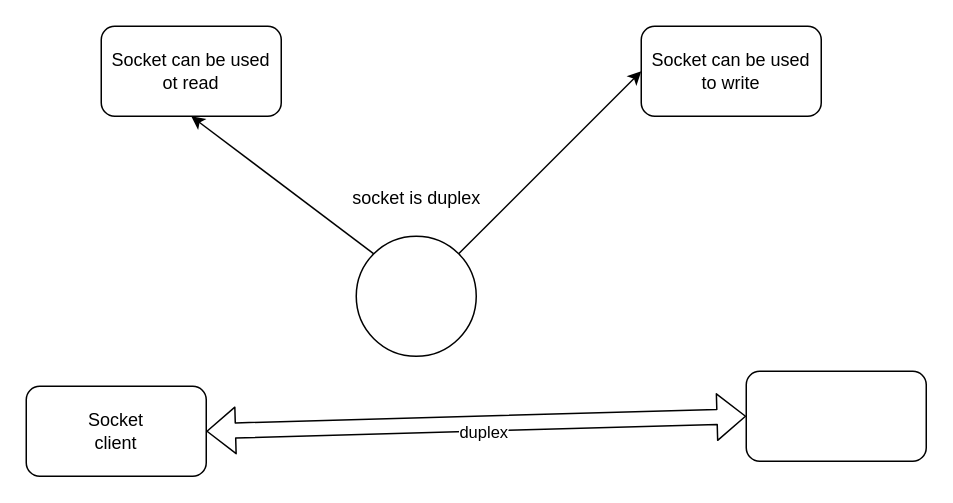
Some shapes in this 953 by 503 pixel diagram are drawn without their labels. The shapes that lost their labels are listed below. From the top down, each one's centre as x and y in pixels, then its label:
At (415,295): "socket".
At (835,415): "socket server".
